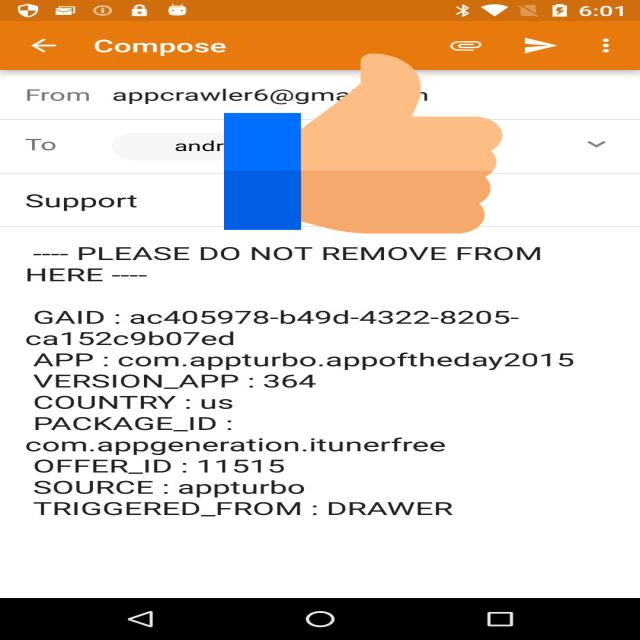privacy zuckering: (224, 49, 503, 238)
